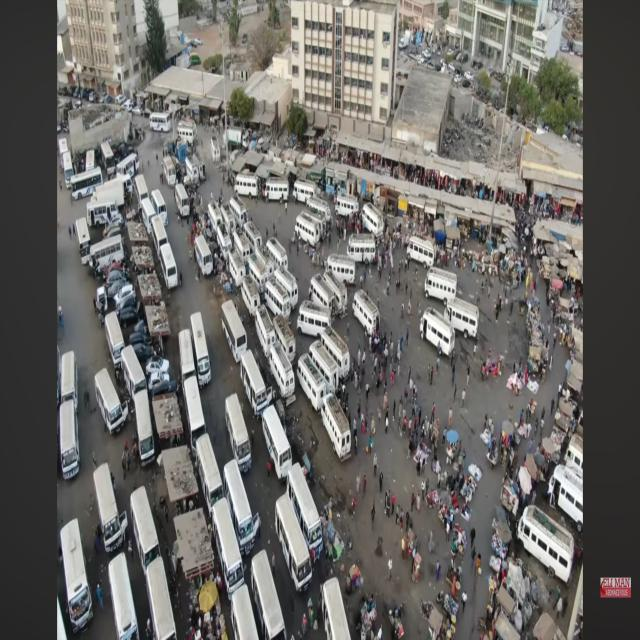bus tata: (61, 520, 94, 634), (276, 493, 314, 591), (225, 461, 261, 556), (289, 464, 324, 561), (252, 550, 287, 640), (214, 499, 245, 599), (95, 464, 129, 553), (110, 553, 140, 640), (131, 488, 161, 574), (147, 558, 177, 640), (197, 434, 225, 518), (96, 369, 130, 434), (262, 407, 292, 480), (226, 393, 252, 474), (241, 350, 270, 418), (184, 377, 207, 458), (322, 577, 351, 640), (222, 301, 249, 363), (191, 312, 212, 388), (61, 401, 81, 480), (135, 391, 156, 466), (232, 585, 260, 640), (122, 345, 147, 399), (90, 236, 125, 274), (106, 312, 126, 372), (71, 169, 104, 201), (62, 353, 79, 409), (161, 244, 179, 290), (180, 331, 196, 382), (195, 236, 214, 277), (151, 190, 169, 228), (152, 217, 169, 255), (117, 152, 140, 177), (76, 217, 91, 255), (142, 198, 156, 236), (62, 152, 75, 190), (136, 174, 150, 209), (176, 185, 191, 217), (151, 112, 172, 134), (101, 142, 116, 171)
ndiaga ndiaye: (519, 507, 575, 583), (549, 466, 585, 531), (322, 396, 352, 461), (297, 355, 330, 412), (310, 272, 349, 318), (421, 309, 456, 358), (310, 339, 340, 391), (270, 345, 296, 404), (322, 328, 351, 380), (446, 299, 480, 339), (297, 301, 332, 339), (354, 290, 381, 336), (324, 269, 349, 318), (266, 277, 292, 320), (426, 269, 457, 304), (274, 315, 296, 363), (256, 307, 276, 358), (276, 269, 299, 309), (326, 255, 356, 285), (296, 212, 321, 247), (407, 236, 436, 266), (250, 253, 269, 296), (347, 236, 377, 263), (362, 204, 385, 239), (307, 196, 332, 228), (242, 277, 261, 318), (267, 236, 289, 270), (232, 231, 252, 266), (217, 223, 234, 263), (235, 171, 260, 198), (230, 250, 247, 288), (230, 196, 250, 228), (566, 434, 584, 469), (294, 180, 317, 204), (245, 223, 264, 250), (221, 204, 237, 236), (336, 196, 360, 217), (266, 180, 290, 201), (209, 201, 224, 234), (179, 120, 197, 147)
particulier: (117, 293, 141, 326), (152, 380, 180, 399), (114, 285, 136, 307), (95, 288, 109, 320), (135, 345, 155, 363), (148, 358, 170, 374), (130, 331, 151, 347), (107, 272, 124, 288), (135, 320, 147, 334)
